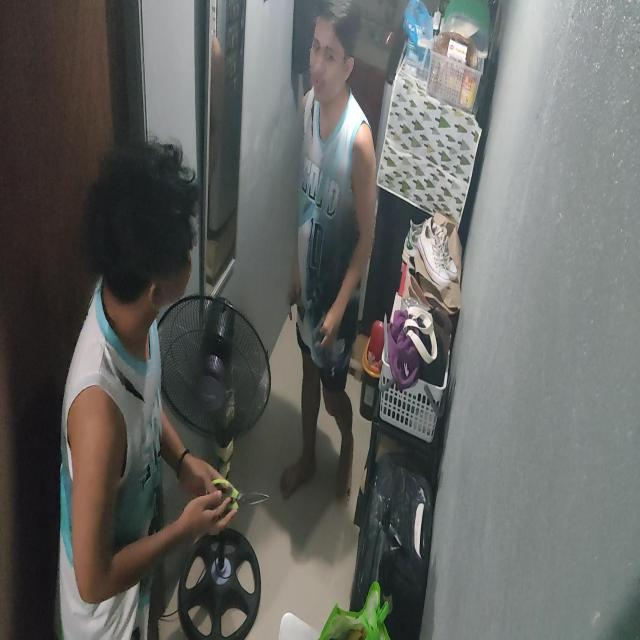scissor: (201, 478, 271, 535)
